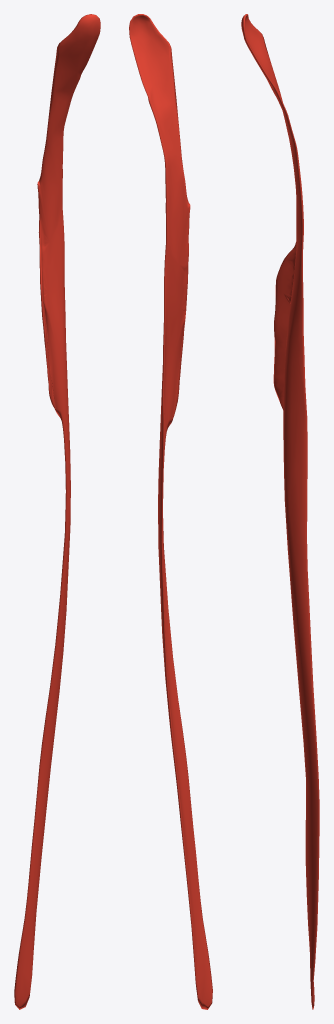
Rendered from Extensor_digitorum_longus_on_fibula_and_interosseus_membran_Gen.glb.
The picture shows the model from 3 angles, left to right: view 1: azimuth 30°, elevation 25°; view 2: azimuth 210°, elevation 25°; view 3: azimuth 270°, elevation 25°; orthographic projection. The views are drawn at different scales.
Parts seen in each view (by area): view 1: Extensor_digitorum_longus_on_fibula_and_interosseus_membran_; view 2: Extensor_digitorum_longus_on_fibula_and_interosseus_membran_; view 3: Extensor_digitorum_longus_on_fibula_and_interosseus_membran_.
Boxes of the visible parts, <box> form: Extensor_digitorum_longus_on_fibula_and_interosseus_membran_: <box>14,14,100,1009</box>; Extensor_digitorum_longus_on_fibula_and_interosseus_membran_: <box>129,14,212,1009</box>; Extensor_digitorum_longus_on_fibula_and_interosseus_membran_: <box>241,14,319,1009</box>.
Bounding box in the file's own units: 0.0132 × 0.243 × 0.017.
